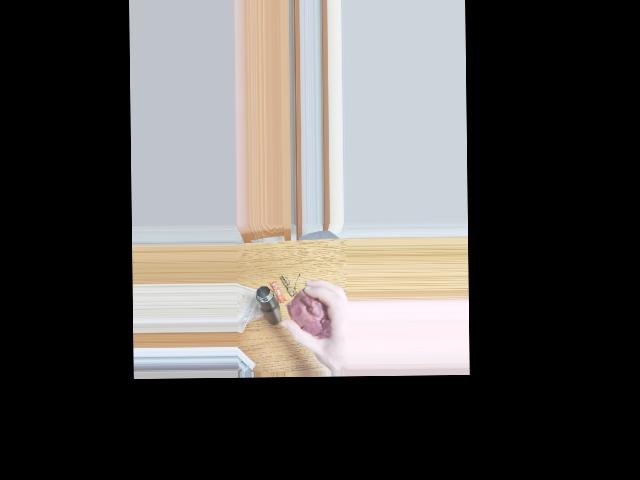onion: (297, 294, 330, 339)
